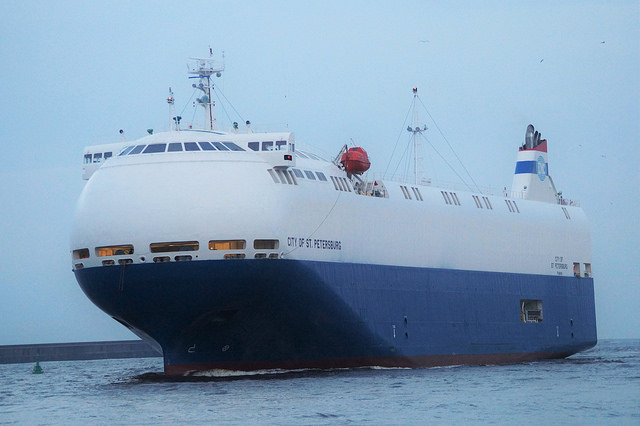PCC: (68, 47, 609, 370)
